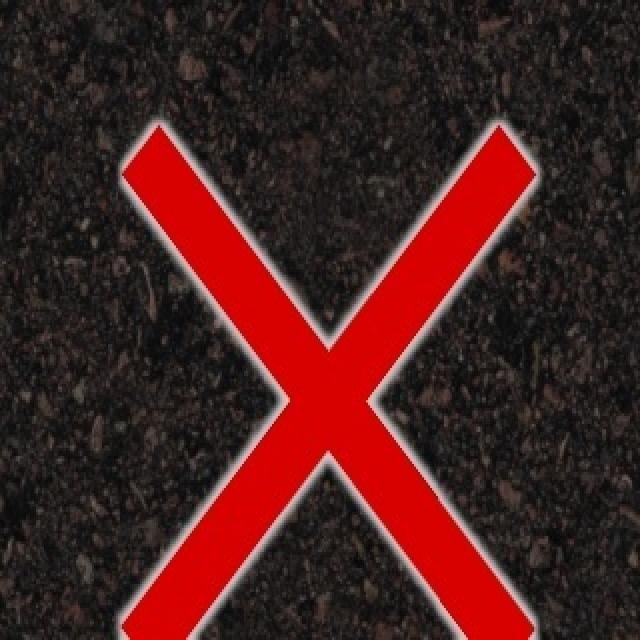x_marker: (121, 124, 535, 639)
